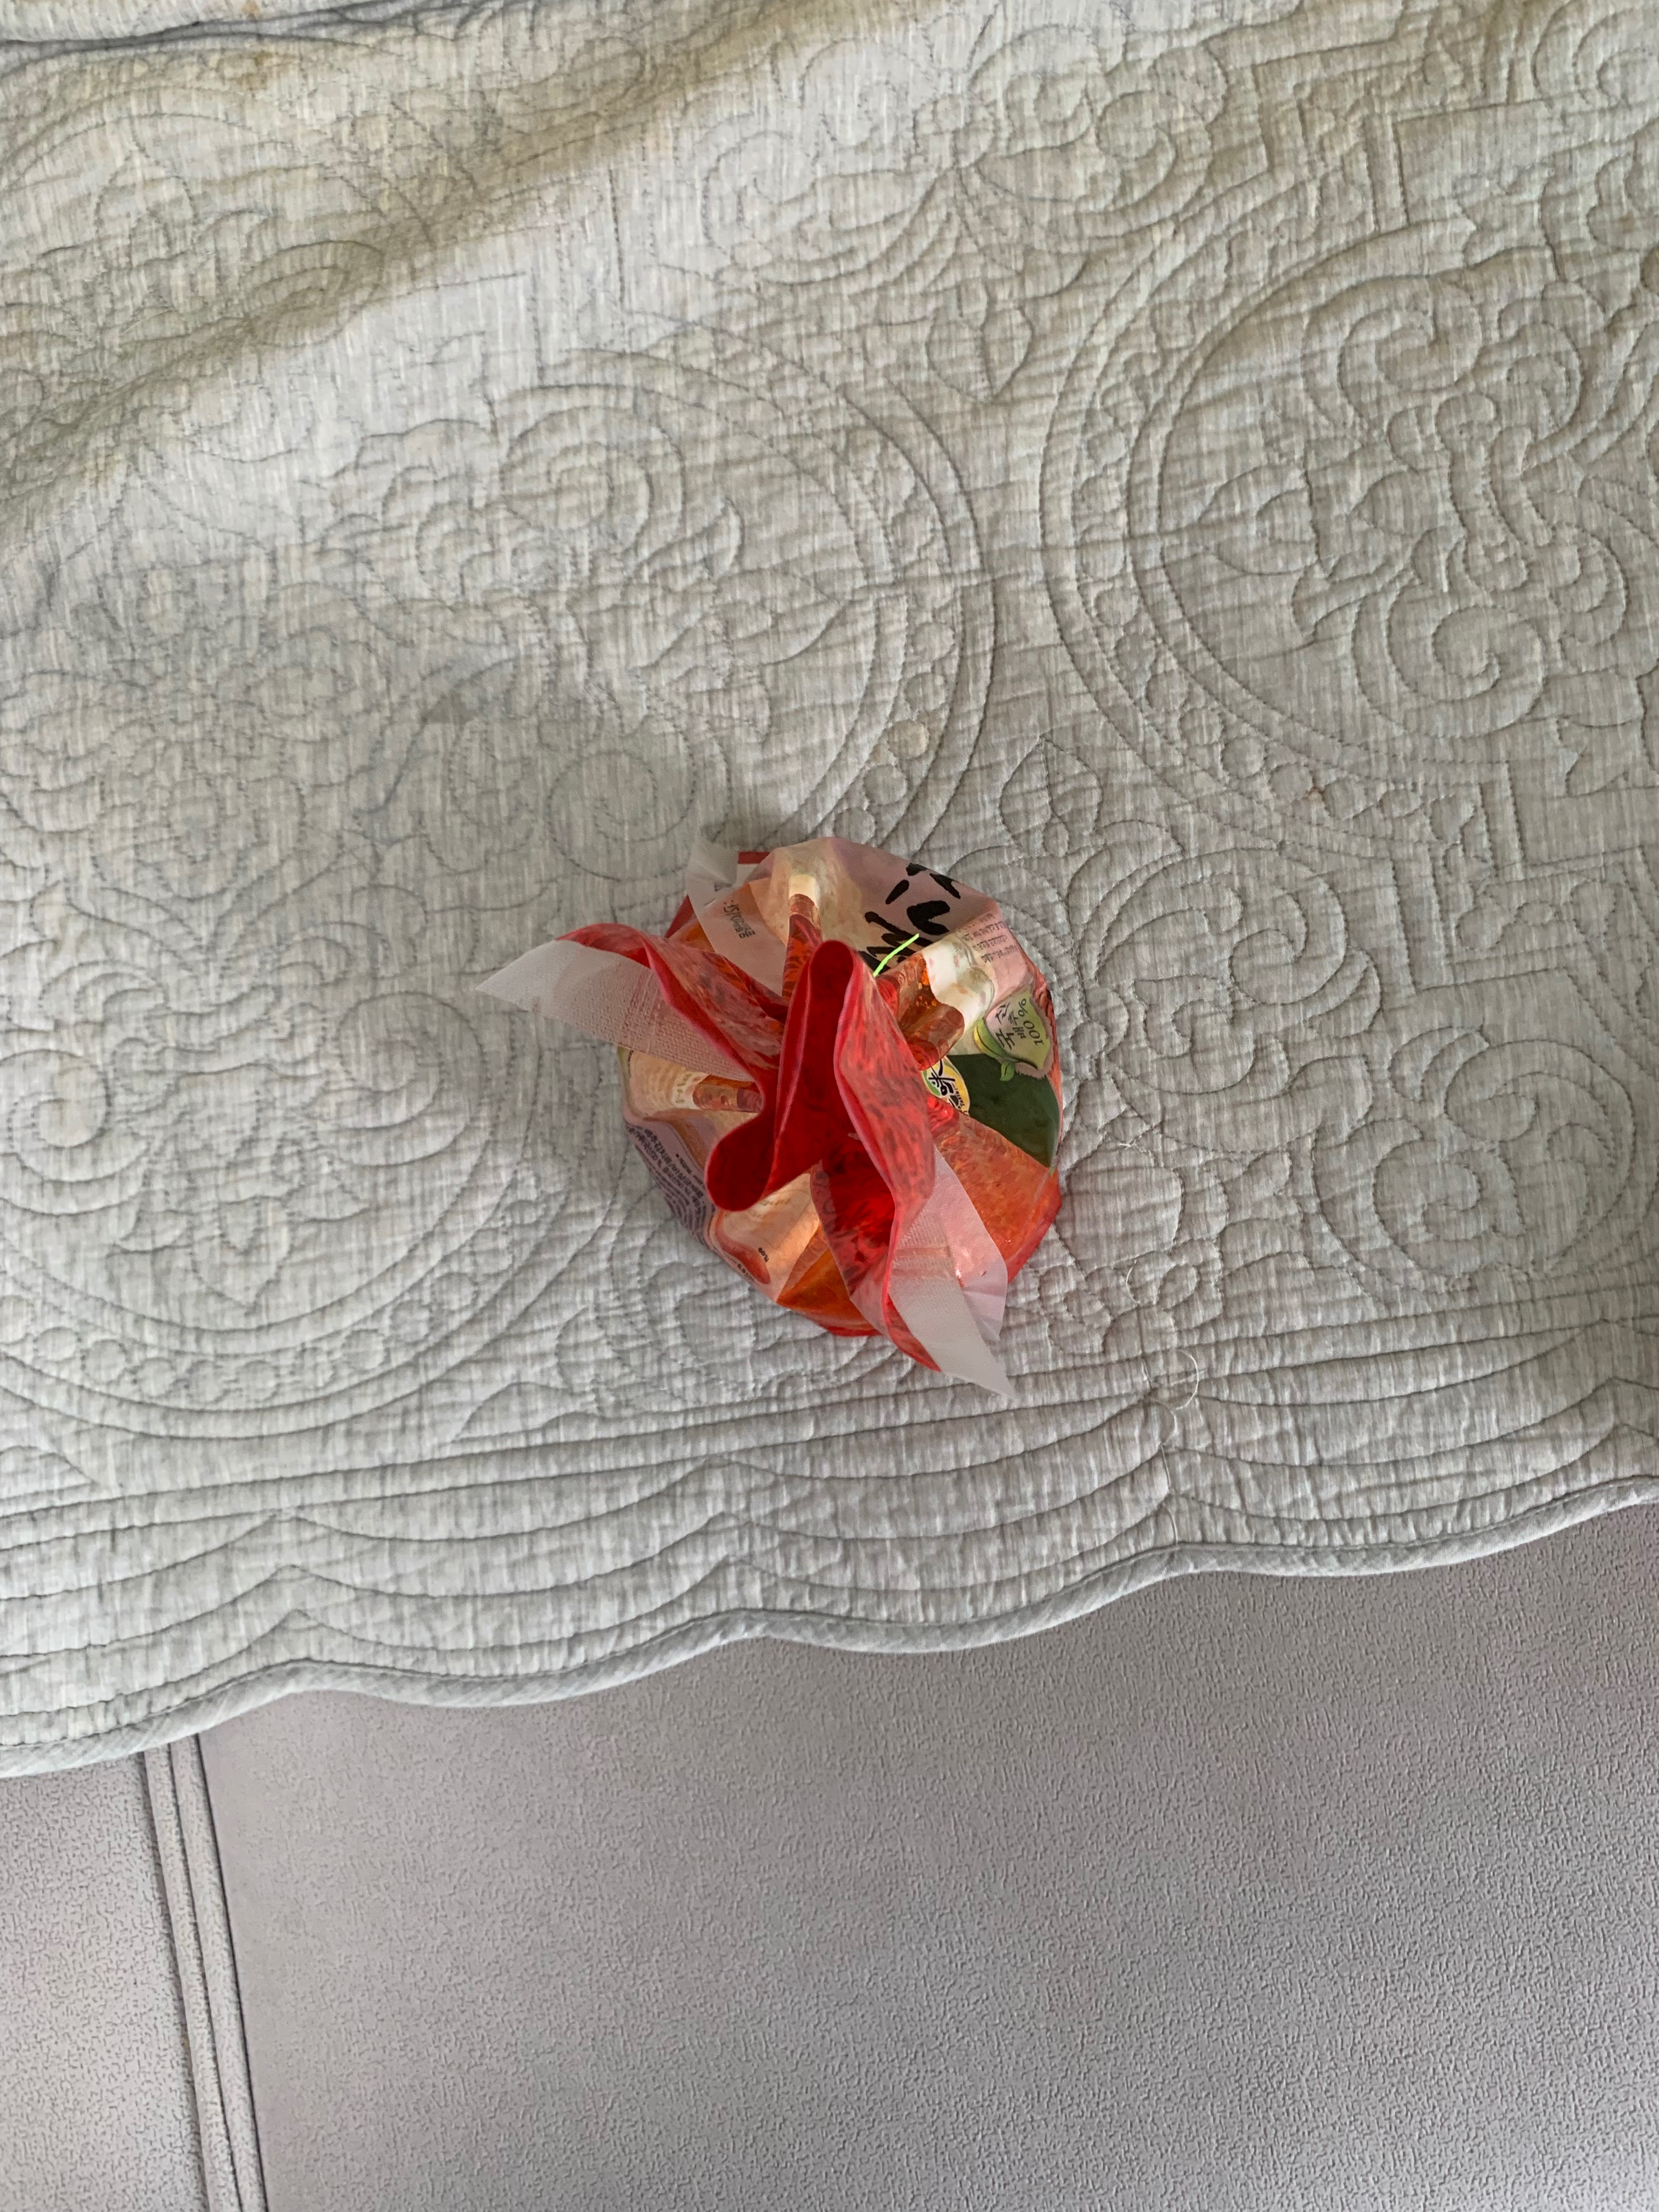kimchi: (587, 838, 1065, 1364)
